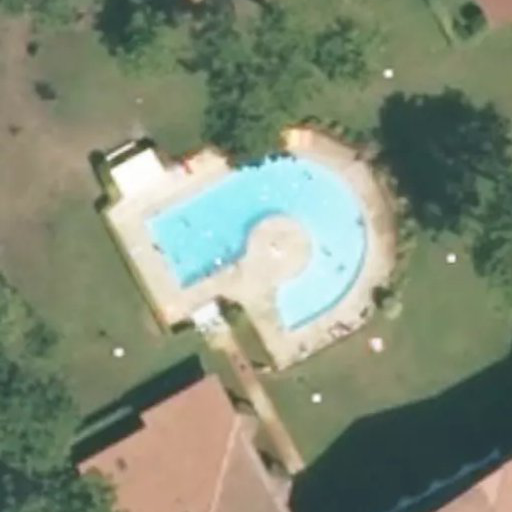pool: (142, 217, 400, 275)
